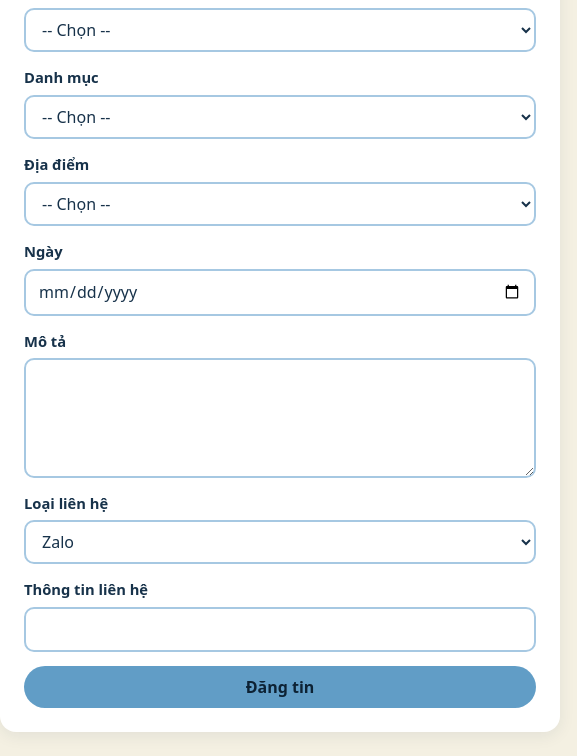
Test case: PostForm › hiện lỗi dưới đúng ô khi action trả về errors
The width and height of the screenshot is (577, 756).
(page scrolled)
Click the button "Đăng tin".
click(280, 687)  # box left=24, top=666, right=536, bottom=708
(page scrolled)
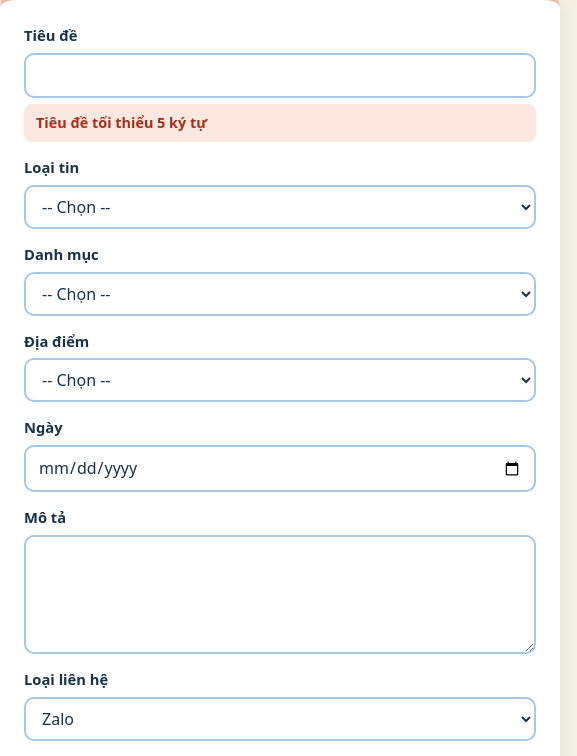
Check: the message reads "Tiêu đề tối thiểu 5 ký tự", box left=36, top=113, right=207, bottom=132
